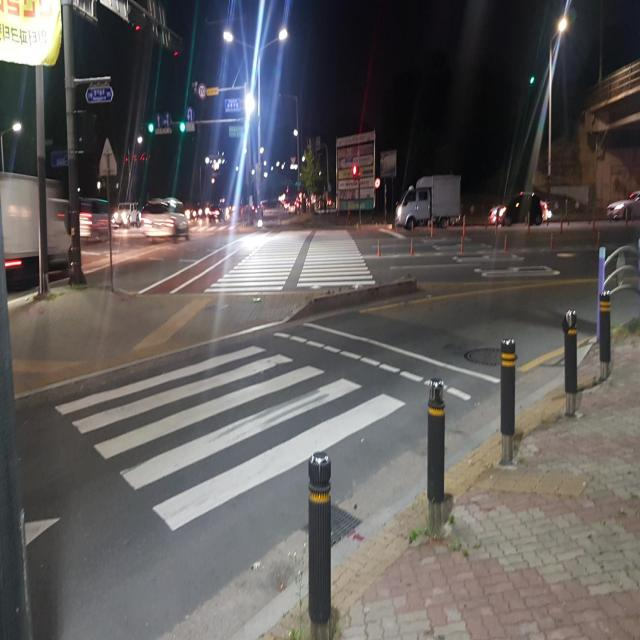빨간불: (352, 165, 358, 184)
횡단보도: (52, 342, 408, 536), (204, 228, 380, 290)
